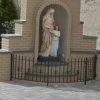Statue: (32, 3, 74, 72)
